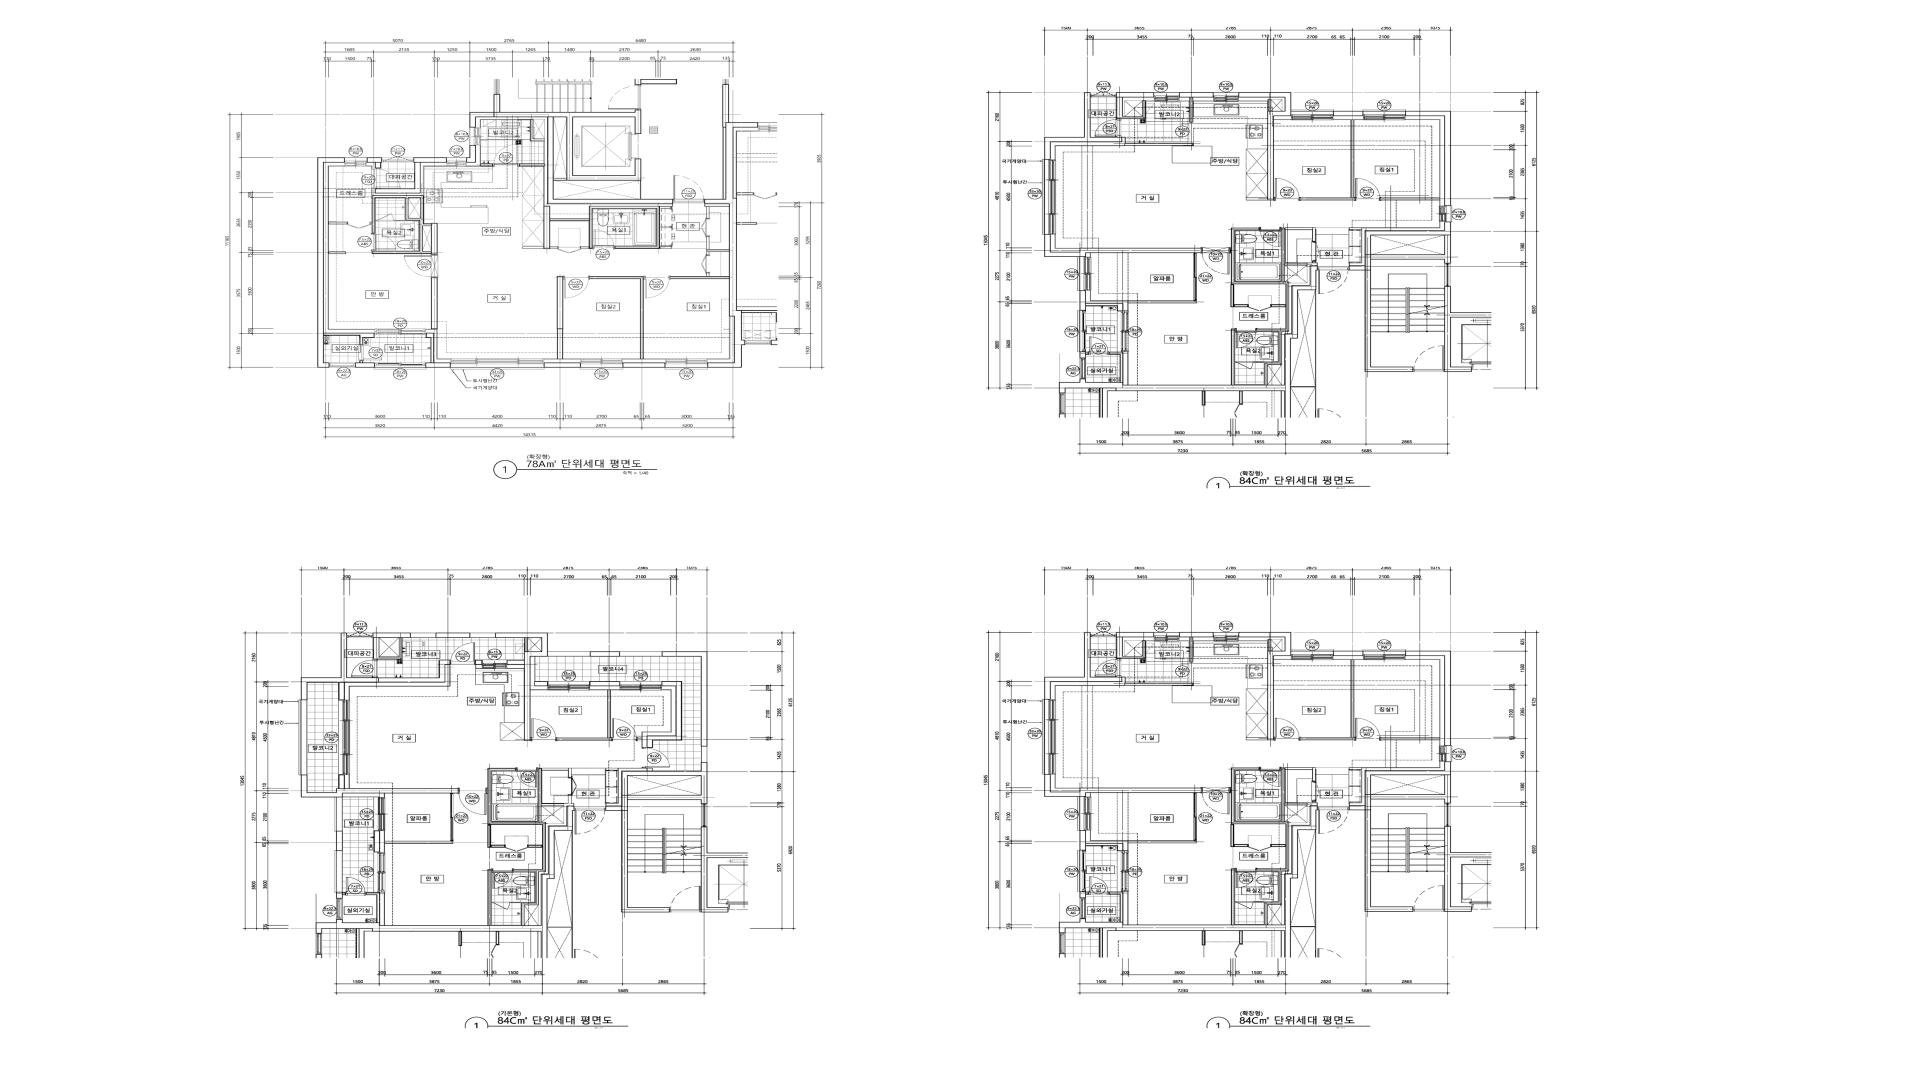door: (1317, 806, 1349, 833), (574, 807, 605, 835), (1317, 266, 1349, 294), (1201, 787, 1232, 815), (673, 175, 704, 202), (458, 789, 488, 815), (1414, 886, 1444, 913), (1201, 248, 1232, 274), (1414, 345, 1444, 372), (608, 86, 641, 109), (404, 255, 438, 277), (1354, 717, 1381, 740), (1274, 717, 1300, 740), (530, 719, 556, 741), (1354, 178, 1381, 200), (1274, 178, 1300, 200), (493, 144, 520, 166), (612, 719, 637, 741), (450, 642, 475, 665), (644, 277, 670, 298), (563, 277, 589, 298), (642, 748, 670, 767), (372, 169, 400, 189), (351, 659, 377, 678), (1095, 119, 1121, 137), (1095, 659, 1121, 676), (1259, 767, 1282, 787), (491, 869, 513, 889), (516, 767, 538, 787), (1234, 328, 1257, 348), (592, 229, 615, 249), (372, 233, 396, 252), (1234, 869, 1257, 887), (1259, 228, 1282, 247), (1088, 877, 1109, 895), (1088, 336, 1109, 355), (345, 877, 365, 895), (360, 344, 382, 360), (492, 902, 521, 910), (1193, 793, 1197, 840), (450, 794, 454, 841), (1193, 253, 1197, 301), (1312, 781, 1320, 803), (1312, 241, 1320, 262), (1091, 91, 1116, 98), (568, 777, 576, 796), (347, 222, 371, 228), (1249, 844, 1271, 851), (505, 845, 527, 852), (1249, 305, 1271, 311), (558, 247, 580, 253), (1234, 902, 1253, 910), (1234, 361, 1253, 369), (702, 255, 709, 273), (702, 219, 709, 236), (376, 214, 393, 222), (1091, 632, 1116, 637)
wall: (315, 806, 574, 959), (1059, 265, 1317, 418), (1059, 806, 1317, 957), (469, 94, 673, 204), (670, 84, 741, 368), (476, 117, 673, 219), (605, 762, 707, 913), (1349, 222, 1451, 372), (1349, 762, 1451, 913), (488, 767, 574, 926), (1232, 767, 1317, 924), (1232, 228, 1317, 385), (318, 157, 375, 368), (301, 633, 450, 700), (323, 162, 375, 332), (1238, 632, 1291, 740), (1238, 92, 1291, 200), (496, 633, 547, 741), (1044, 632, 1125, 699), (1044, 92, 1125, 160), (543, 206, 659, 249), (589, 277, 644, 359), (1300, 659, 1354, 740), (1300, 120, 1354, 200), (1406, 651, 1451, 746), (662, 651, 707, 746), (1406, 111, 1451, 206), (1444, 825, 1491, 913), (700, 827, 748, 913), (1444, 286, 1491, 372), (372, 195, 438, 255), (1044, 774, 1201, 796), (301, 775, 458, 798), (1044, 235, 1201, 257), (556, 690, 612, 741), (375, 157, 447, 194), (642, 682, 682, 748), (372, 162, 447, 195), (1291, 829, 1316, 927), (1291, 290, 1316, 388), (547, 831, 572, 927), (605, 767, 646, 806), (628, 775, 702, 795), (1371, 235, 1444, 255), (1371, 775, 1444, 795), (708, 316, 735, 363), (1116, 632, 1154, 658), (1116, 92, 1154, 119), (1080, 831, 1129, 851), (1080, 291, 1129, 311), (426, 334, 451, 368), (426, 330, 451, 363), (1122, 637, 1154, 657), (373, 638, 402, 659), (1122, 98, 1154, 116), (556, 277, 563, 359), (1109, 891, 1124, 922), (1109, 352, 1124, 382), (541, 806, 564, 824), (707, 236, 729, 255), (1232, 824, 1249, 848), (1232, 285, 1249, 307), (704, 204, 729, 219), (431, 277, 438, 330), (1179, 632, 1213, 641), (1179, 92, 1213, 102), (530, 120, 545, 141), (1333, 111, 1364, 120), (634, 79, 676, 86), (467, 145, 480, 166), (1129, 840, 1196, 844), (373, 831, 385, 852), (1333, 651, 1364, 659), (589, 682, 620, 690), (409, 198, 421, 218), (1269, 637, 1284, 651), (622, 363, 665, 368), (1269, 98, 1284, 111), (372, 633, 410, 638), (543, 363, 580, 368), (435, 633, 471, 638), (367, 157, 382, 169), (385, 841, 454, 844), (1125, 683, 1193, 686), (1129, 301, 1196, 303), (622, 359, 665, 363), (589, 651, 620, 657), (467, 145, 476, 162), (1381, 737, 1440, 740), (355, 360, 375, 368), (1381, 198, 1440, 200), (488, 869, 491, 926), (1232, 328, 1234, 385), (1232, 869, 1234, 924), (543, 359, 580, 363), (336, 831, 343, 851), (1189, 637, 1193, 662), (1189, 98, 1193, 123), (1125, 144, 1193, 145), (520, 164, 545, 166), (475, 661, 483, 669), (1246, 737, 1267, 740), (522, 247, 543, 249), (1246, 198, 1267, 200), (524, 638, 527, 651), (367, 162, 375, 169), (1080, 891, 1087, 898), (1080, 352, 1087, 359), (336, 893, 343, 898), (480, 164, 493, 166), (554, 178, 567, 181), (1349, 767, 1361, 770), (659, 247, 671, 249), (580, 247, 589, 249), (640, 181, 641, 199), (550, 247, 558, 249), (1253, 902, 1265, 903), (1253, 361, 1265, 363), (393, 220, 405, 222), (1349, 228, 1361, 229), (707, 273, 709, 277), (637, 738, 642, 740), (343, 893, 345, 895), (1087, 891, 1088, 894), (1087, 352, 1088, 355), (371, 222, 372, 224)
window: (1042, 699, 1056, 774), (1042, 160, 1056, 235), (450, 359, 545, 369), (338, 700, 349, 775), (298, 700, 307, 775), (373, 852, 385, 893), (1291, 109, 1335, 120), (1291, 649, 1335, 659), (665, 359, 708, 369), (1077, 796, 1091, 831), (1077, 257, 1091, 291), (1364, 649, 1406, 659), (580, 359, 622, 369), (1364, 109, 1406, 120), (375, 330, 426, 338), (373, 798, 385, 831), (334, 851, 343, 893), (1077, 310, 1087, 352), (1077, 851, 1087, 891), (375, 363, 426, 369), (620, 682, 662, 690), (547, 682, 589, 690), (1121, 851, 1129, 891), (1121, 311, 1129, 352), (334, 798, 343, 831), (1154, 632, 1179, 641), (1213, 92, 1238, 102), (1154, 92, 1179, 102), (1213, 632, 1238, 641), (620, 651, 662, 657), (547, 651, 589, 657), (483, 659, 506, 669), (344, 157, 367, 166), (1440, 206, 1452, 222), (1440, 746, 1452, 762), (447, 157, 467, 166), (469, 128, 480, 145), (347, 632, 373, 638), (381, 157, 413, 162), (1444, 803, 1451, 827), (1444, 262, 1451, 286), (336, 898, 343, 919), (469, 633, 496, 638), (1080, 898, 1087, 919), (410, 633, 435, 638), (330, 363, 355, 368), (1080, 359, 1087, 378), (702, 804, 707, 827), (700, 746, 707, 762)
